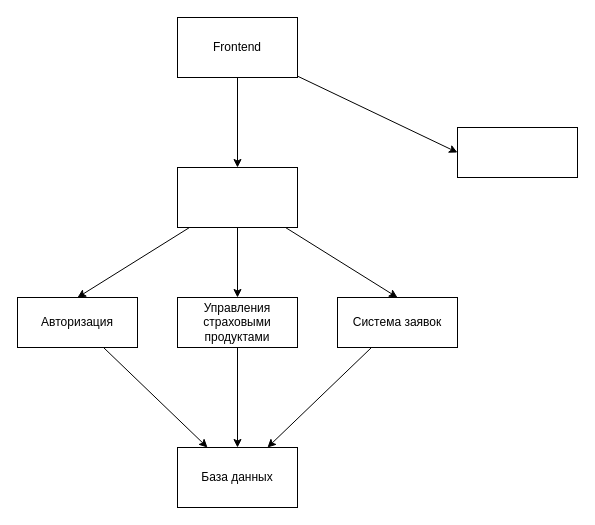
The diagram is 595 pixels wide and 525 high, and some of its shapes have lost their labels. Each missing label, with the centre of its shape:
"Backend" belongs at point 237,197.
"Смарт-контракт" belongs at point 517,152.
